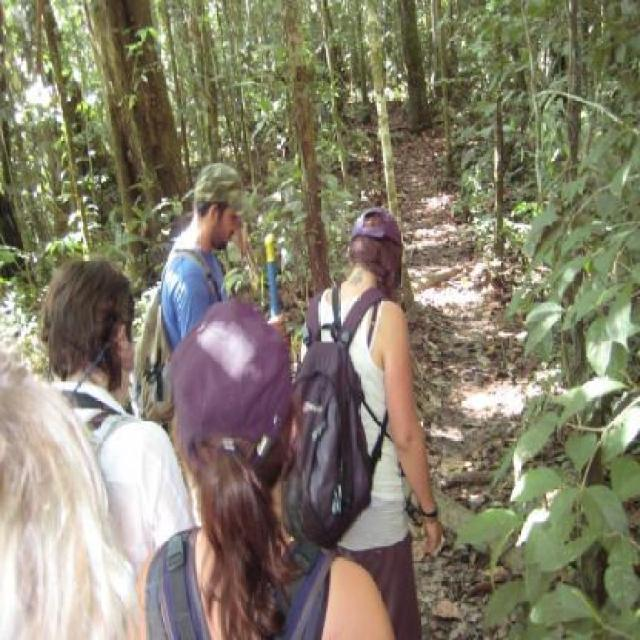backpack: (292, 335, 376, 548), (134, 286, 175, 425)
